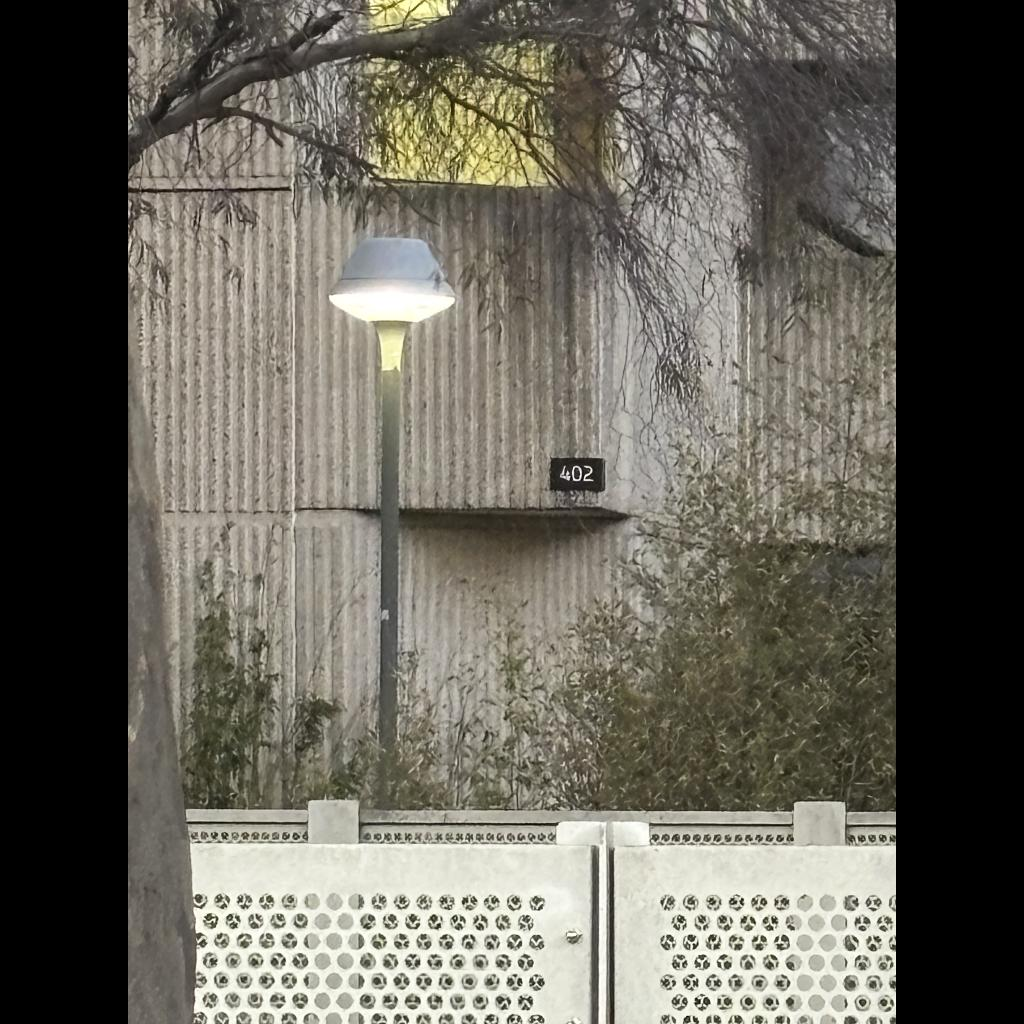BuildingCodes: (556, 462, 598, 484)
